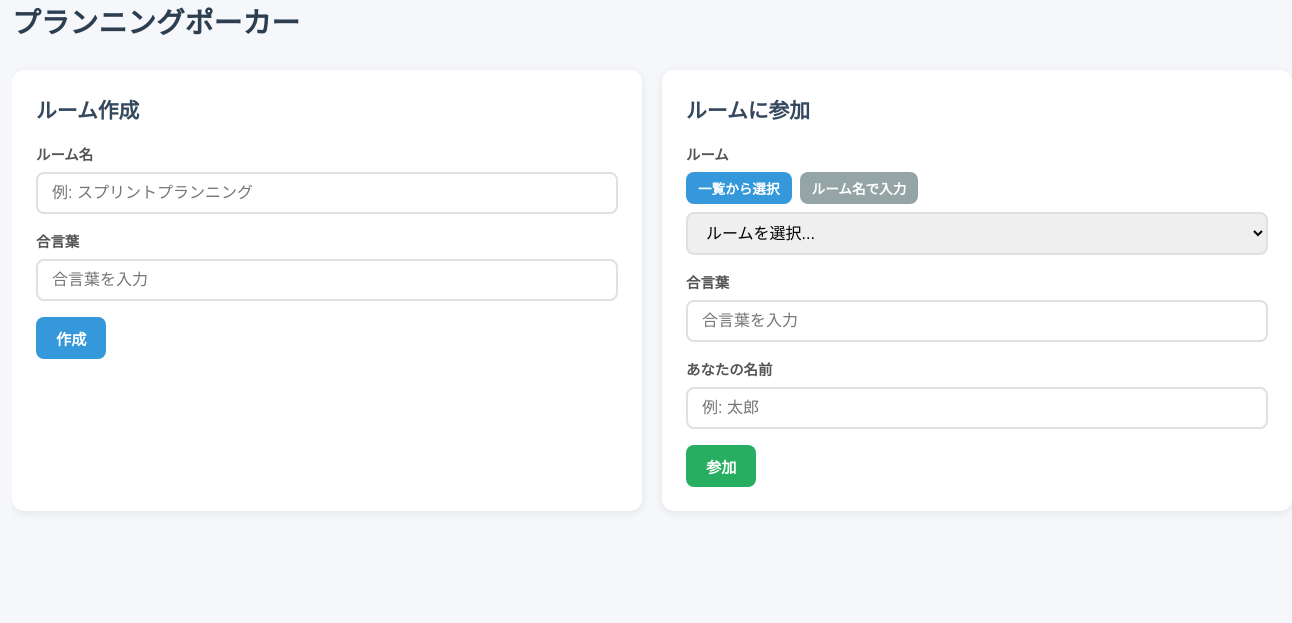
Test: TopPage › shows error on login failure
Select "Room1" in the dropdown at [977, 234], box [686,212,1268,255]
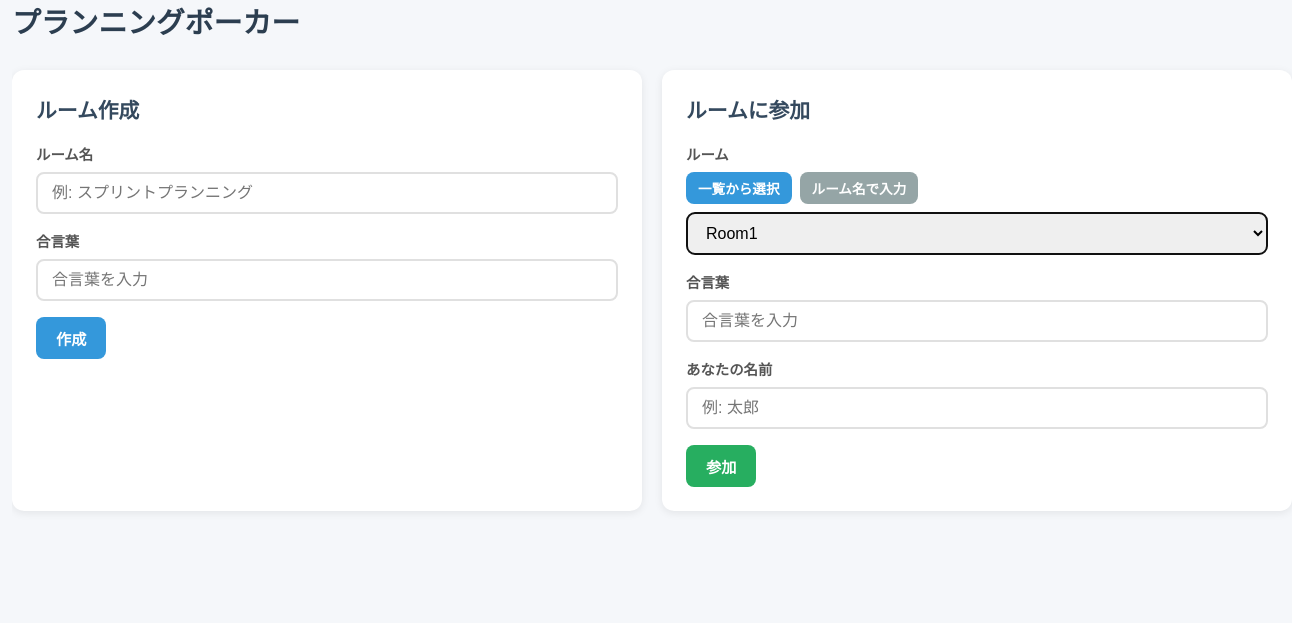
Type "wrong" into the password field with placeholder "合言葉を入力" below "ルームに参加" at [977, 321], box [686,300,1268,342]
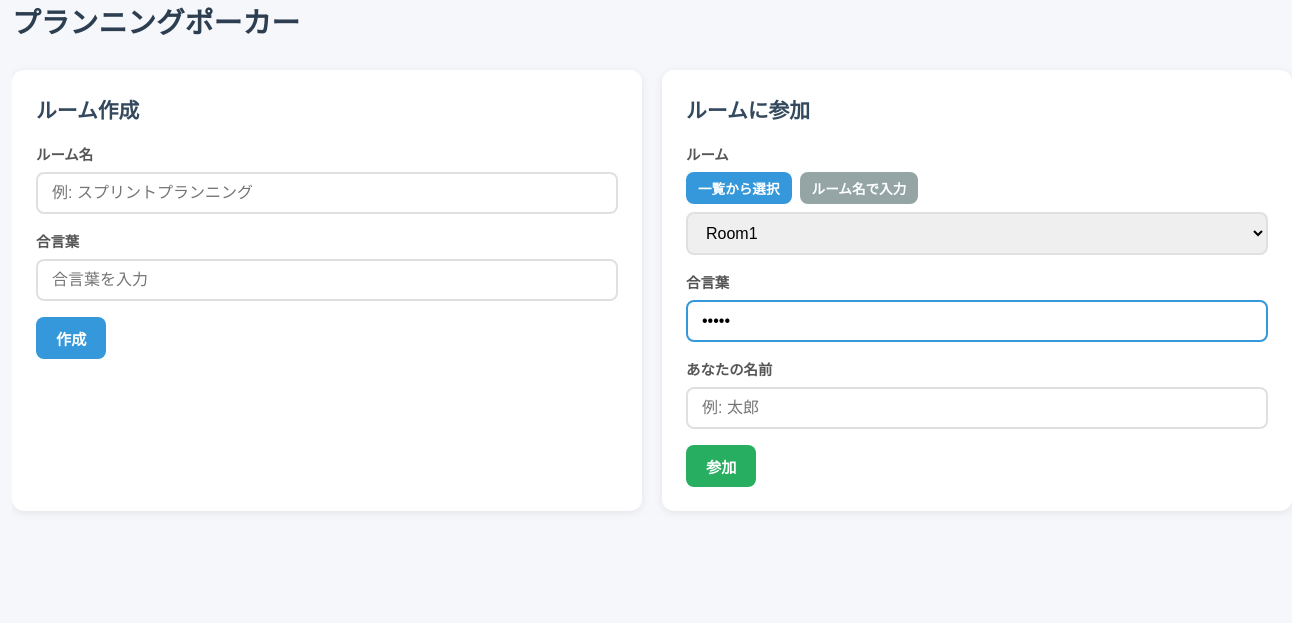
Type "Eve" into the field with placeholder "例: 太郎" at [977, 408], box [686,388,1268,430]
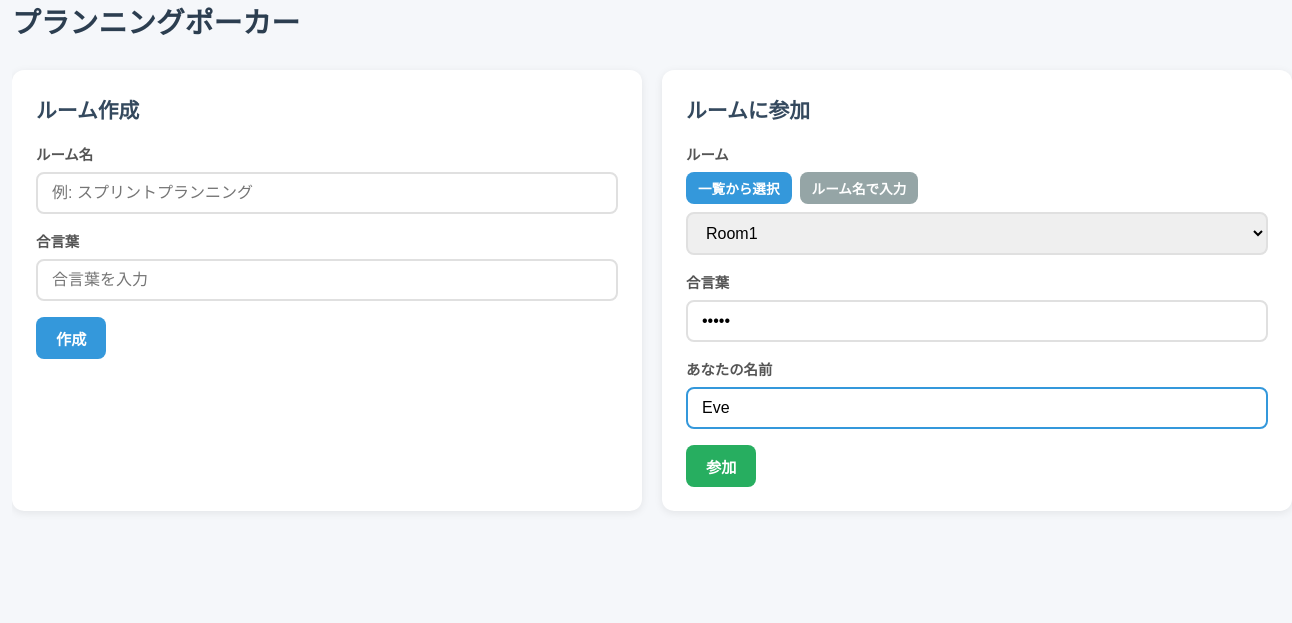
Click the button "参加" at [721, 466], box [686,446,756,488]
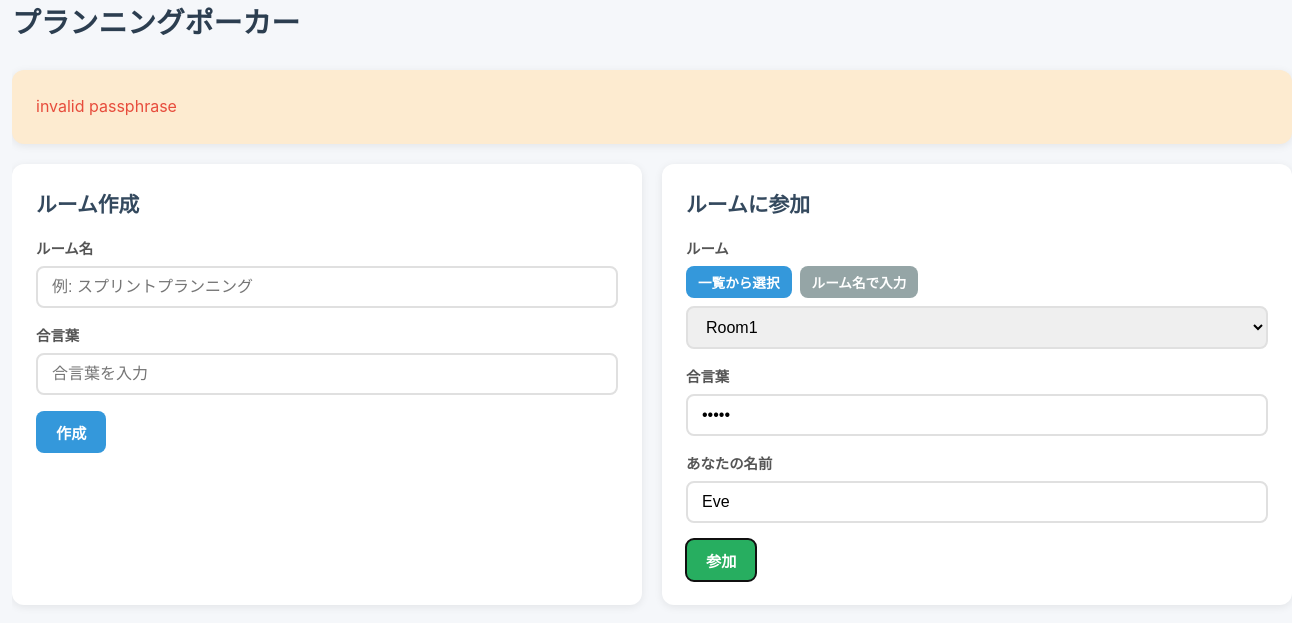
Now the text "invalid passphrase" is shown, box [12,70,1291,144]
